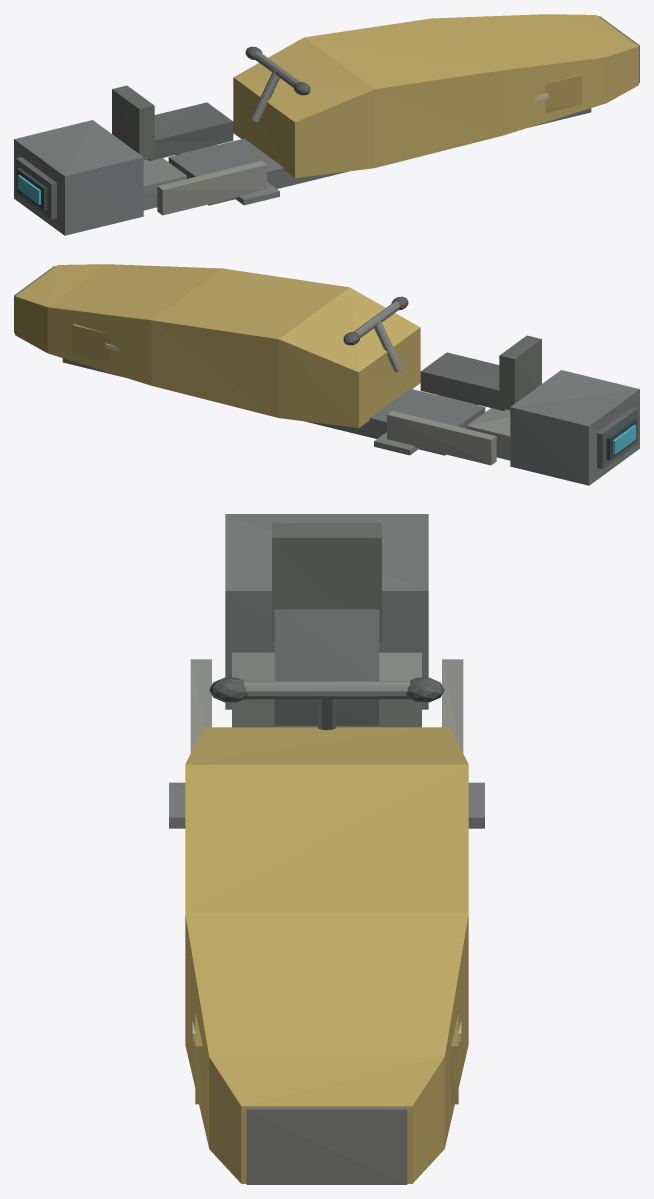
File: spacebike_yellow_on.glb
3 views of the same model, one above another, from view 1: azimuth 30°, elevation 25°; view 2: azimuth 150°, elevation 25°; view 3: azimuth 270°, elevation 25° (orthographic). The views are drawn at different scales.
Parts seen in each view (by area): view 1: forward_hull, rear_engine_block, cockpit_side_-0.47, seat_base, underside_spine, seat_back, rear_frame, side_panel_-0.47, exhaust_frame, steering_column, handlebars, footrest_-0.47 (+2 smaller); view 2: forward_hull, rear_engine_block, cockpit_side_0.47, seat_base, underside_spine, seat_back, rear_frame, side_panel_0.47, exhaust_frame, steering_column, handlebars, footrest_0.47 (+2 smaller); view 3: forward_hull, rear_engine_block, nose_bulkhead, seat_base, seat_back, rear_frame, handlebars, cockpit_side_-0.47, cockpit_side_0.47.
Part boxes in pixels (left/top/right/bottom): forward_hull: left=233, top=14, right=638, bottom=177; rear_engine_block: left=14, top=120, right=143, bottom=235; cockpit_side_-0.47: left=157, top=161, right=266, bottom=215; seat_base: left=147, top=102, right=233, bottom=160; underside_spine: left=168, top=108, right=591, bottom=205; seat_back: left=112, top=85, right=154, bottom=159; rear_frame: left=143, top=158, right=186, bottom=210; side_panel_-0.47: left=545, top=74, right=581, bottom=112; exhaust_frame: left=16, top=157, right=56, bottom=219; steering_column: left=250, top=70, right=279, bottom=122; handlebars: left=254, top=51, right=300, bottom=87; footrest_-0.47: left=234, top=182, right=279, bottom=205; forward_hull: left=15, top=264, right=420, bottom=427; rear_engine_block: left=510, top=370, right=639, bottom=485; cockpit_side_0.47: left=387, top=411, right=496, bottom=465; seat_base: left=420, top=352, right=506, bottom=410; underside_spine: left=62, top=358, right=485, bottom=455; seat_back: left=499, top=335, right=541, bottom=409; rear_frame: left=467, top=408, right=510, bottom=460; side_panel_0.47: left=72, top=324, right=108, bottom=362; exhaust_frame: left=597, top=407, right=637, bottom=469; steering_column: left=374, top=320, right=403, bottom=372; handlebars: left=353, top=301, right=399, bottom=337; footrest_0.47: left=374, top=432, right=419, bottom=455; forward_hull: left=185, top=727, right=468, bottom=1183; rear_engine_block: left=225, top=514, right=428, bottom=709; nose_bulkhead: left=246, top=1107, right=407, bottom=1184; seat_base: left=274, top=609, right=379, bottom=725; seat_back: left=272, top=523, right=381, bottom=641; rear_frame: left=232, top=652, right=421, bottom=727; handlebars: left=243, top=681, right=410, bottom=699; cockpit_side_-0.47: left=190, top=659, right=211, bottom=752; cockpit_side_0.47: left=442, top=659, right=463, bottom=752.
Size of the model in its own units: 5.11 by 0.885 by 1.18.
